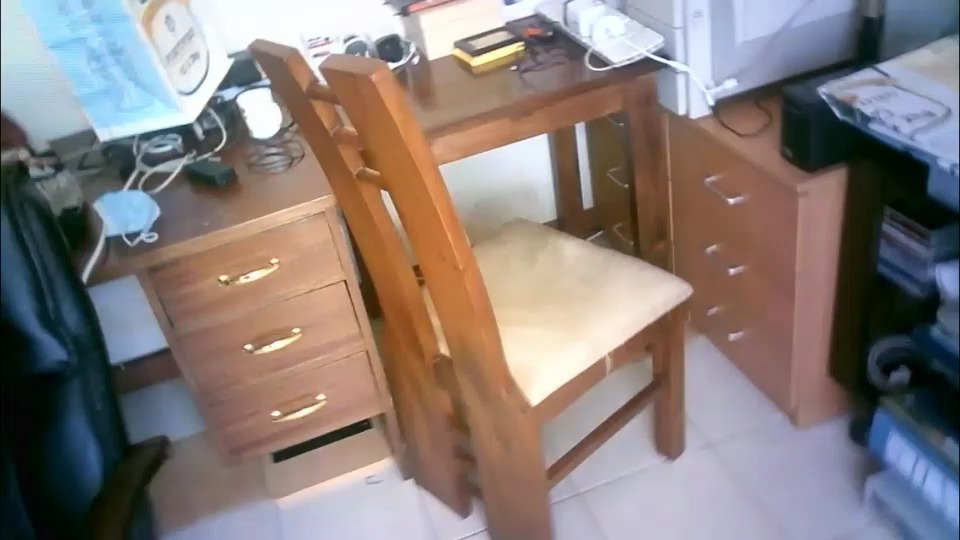wheat_flour_blue_label: (26, 2, 230, 140)
